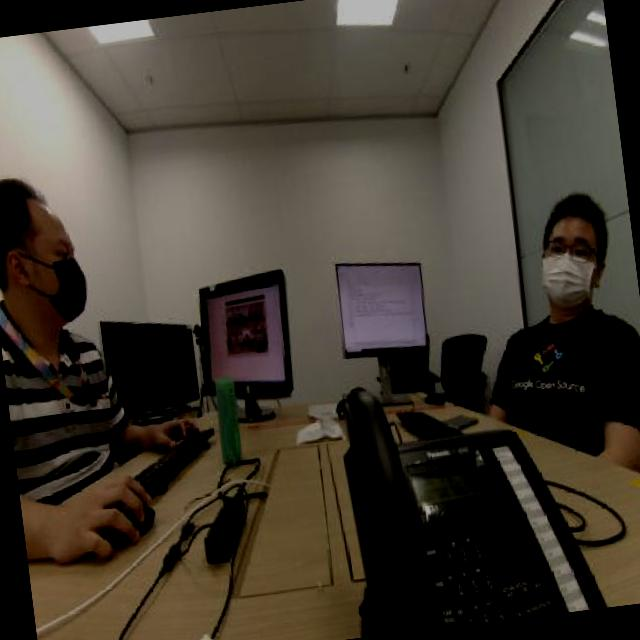Person: (0, 161, 139, 496), (483, 168, 640, 415)
